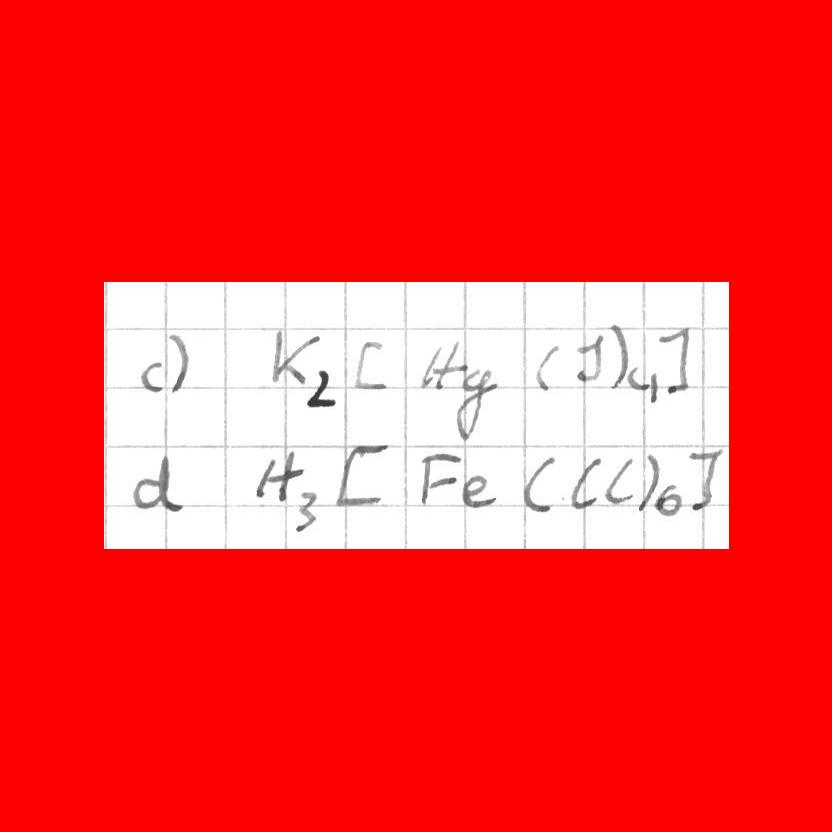Char: (333, 441, 389, 510), (129, 454, 184, 514), (453, 367, 495, 441), (416, 338, 469, 394), (684, 444, 725, 510), (272, 326, 316, 387), (416, 449, 460, 506), (658, 325, 690, 396), (254, 451, 300, 500), (566, 454, 603, 511), (520, 457, 557, 512), (352, 337, 387, 391), (604, 454, 640, 503), (166, 330, 192, 396), (303, 368, 339, 410), (635, 449, 659, 511), (574, 333, 603, 384), (533, 340, 560, 393), (460, 472, 496, 510), (607, 322, 627, 390), (295, 490, 319, 533), (654, 484, 682, 515), (140, 359, 163, 393), (627, 362, 648, 395), (648, 368, 659, 405)
